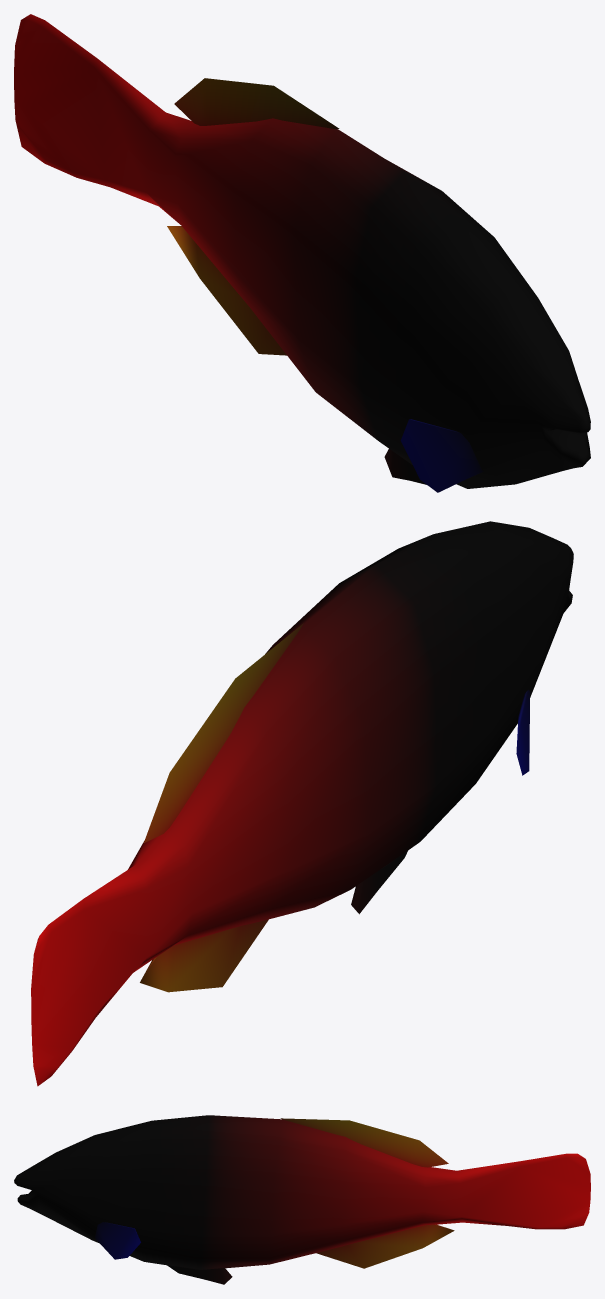
3 views of the same model, one above another, from view 1: azimuth 30°, elevation 25°; view 2: azimuth 150°, elevation 25°; view 3: azimuth 270°, elevation 25° (orthographic). The views are drawn at different scales.
Parts seen in each view (by area): view 1: parrotfish; view 2: parrotfish; view 3: parrotfish.
Boxes of the visible parts, <box> form: parrotfish: <box>14,14,590,492</box>; parrotfish: <box>31,521,573,1086</box>; parrotfish: <box>14,1115,590,1284</box>.
Bounding box in the file's own units: 0.0453 × 0.1009 × 0.3114.
